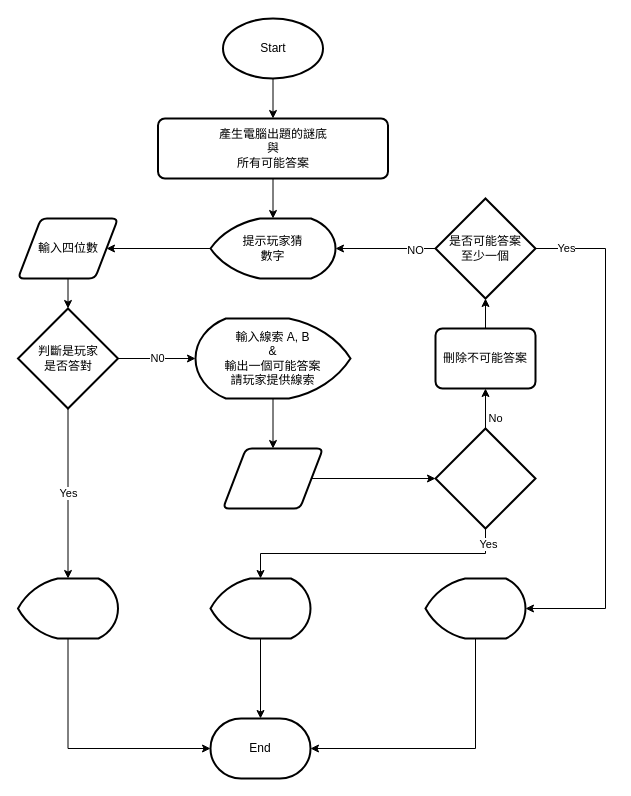
Image size: 631x796. Some labels were removed from this diagram. Here are the shapes that lost their labels. From the top down, the box of each, then its label:
(222, 447, 324, 509): 輸入線索 A, B
(434, 427, 536, 529): 是否是4Ａ
(16, 577, 118, 639): You Win
(209, 577, 311, 639): You Lose
(424, 577, 526, 639): You Cheated!
